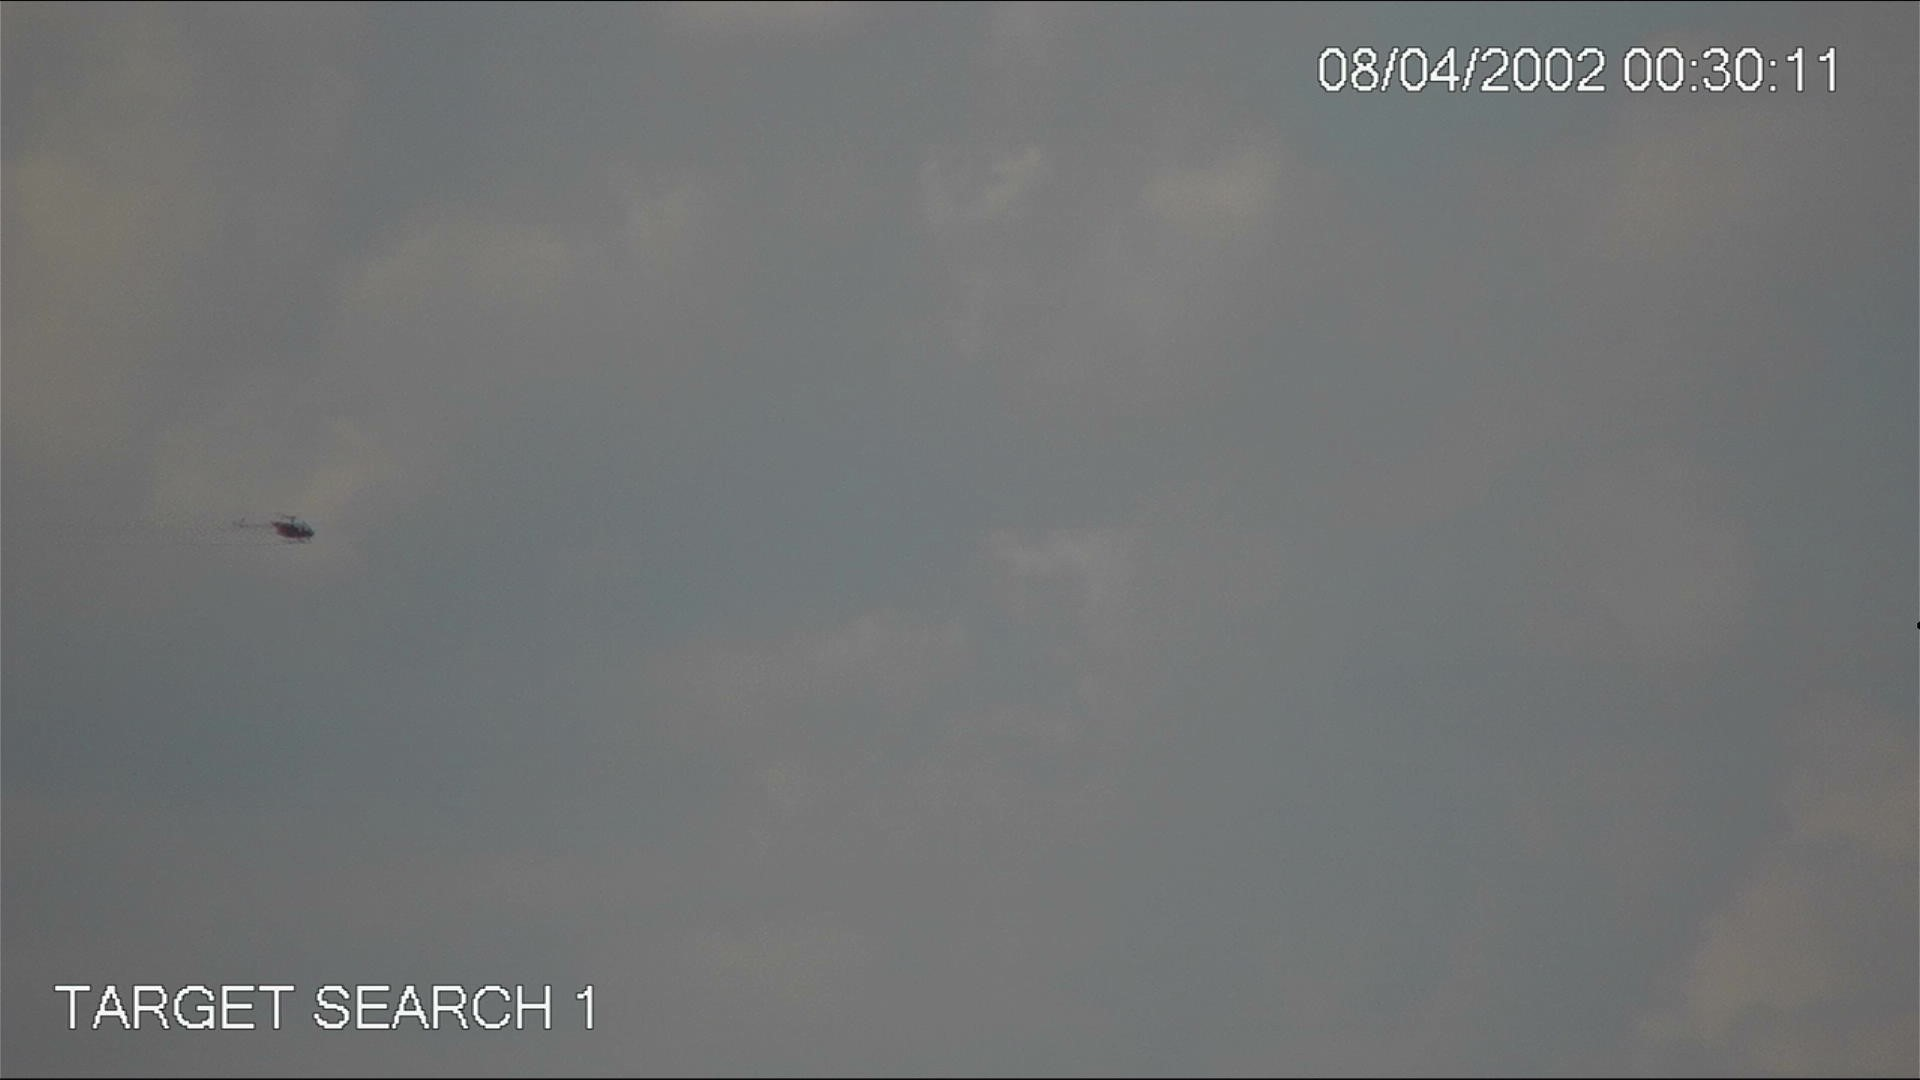SU_30: (233, 504, 320, 553)
